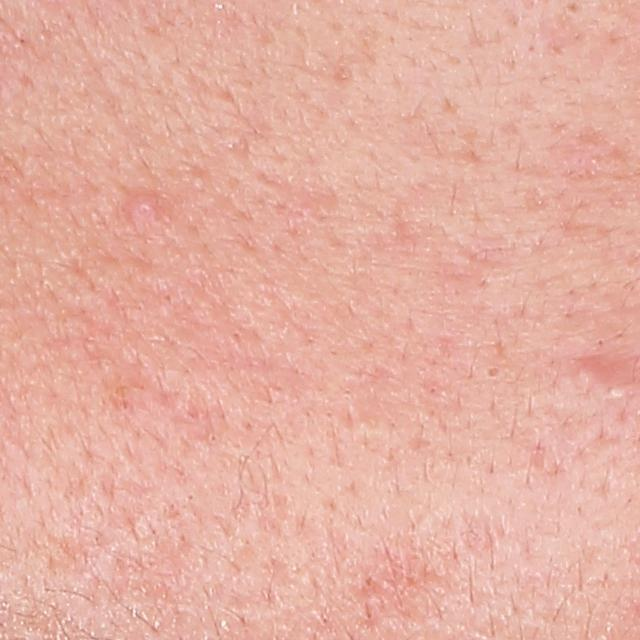papule: (131, 189, 163, 228)
